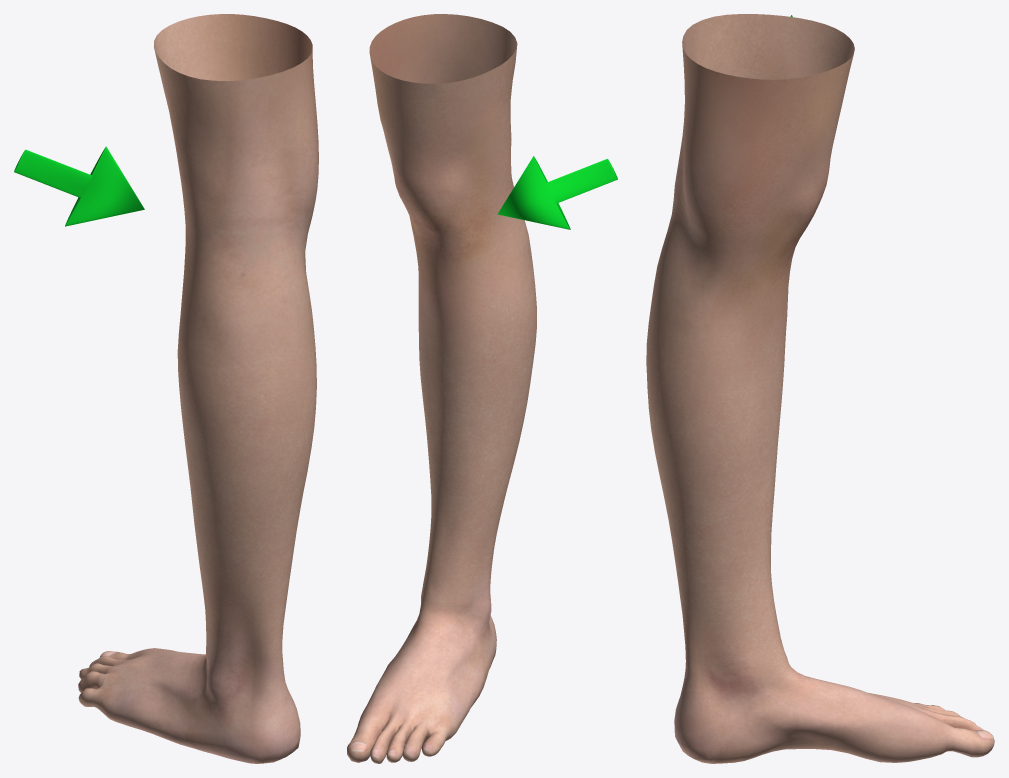
Rendered from knee.fbx.
3 views of the same model, side by side, from view 1: azimuth 30°, elevation 25°; view 2: azimuth 150°, elevation 25°; view 3: azimuth 270°, elevation 25° (orthographic). The views are drawn at different scales.
Parts seen in each view (by area): view 1: Leg Model; view 2: Leg Model; view 3: Leg Model.
Boxes of the visible parts, x1,y1,x2,y2 form: Leg Model: (14, 14, 318, 763); Leg Model: (347, 14, 617, 763); Leg Model: (646, 14, 994, 763).
Bounding box in the file's own units: 524 × 1289 × 565.
Materials: 2 (1 with a texture image).
